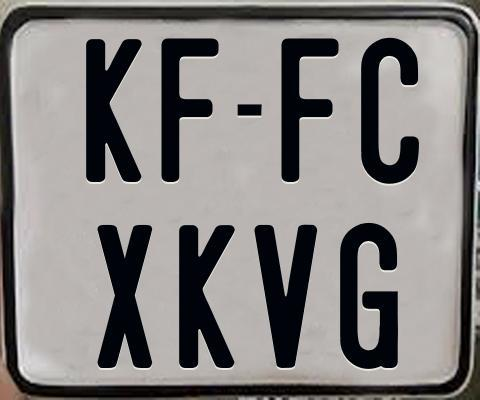C: (360, 37, 419, 189)
F: (279, 35, 342, 185), (158, 38, 221, 182)
G: (338, 221, 396, 371)
K: (178, 225, 237, 372), (85, 39, 142, 184)
V: (252, 222, 318, 369)
X: (97, 224, 152, 371)
